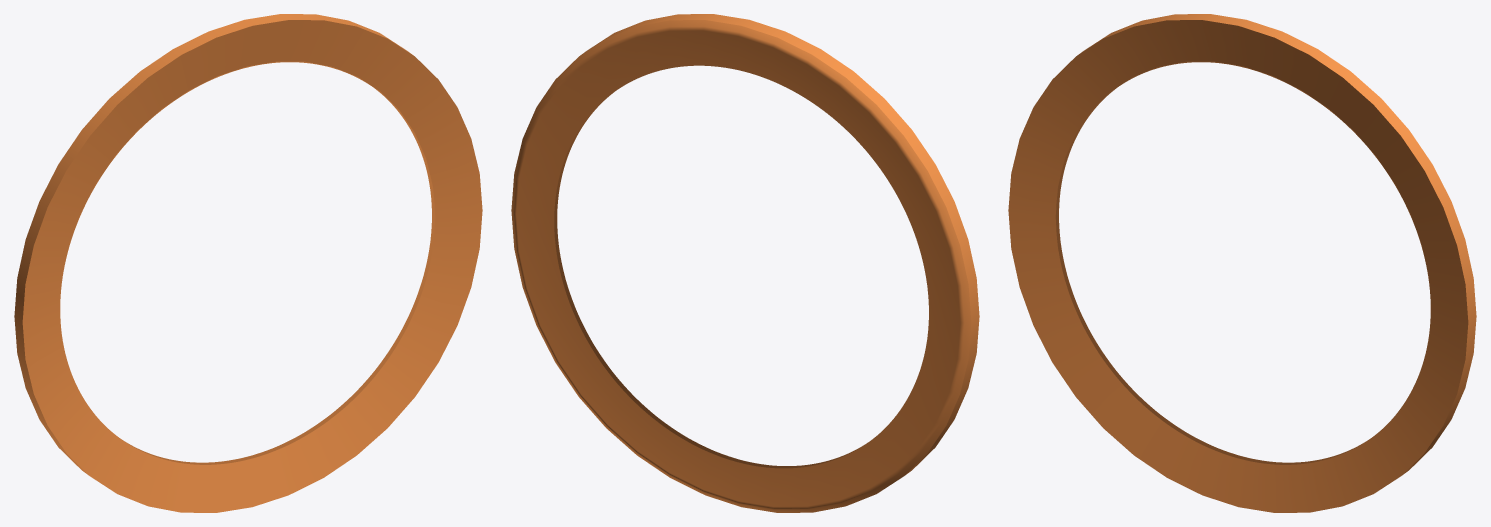
Rendered from Basic-button.fbx.
3 views of the same model, side by side, from view 1: azimuth 30°, elevation 25°; view 2: azimuth 150°, elevation 25°; view 3: azimuth 330°, elevation 25° (orthographic).
Visible parts, largest first — view 1: pCylinder1; view 2: pCylinder1; view 3: pCylinder1.
Part boxes in pixels (x1,y1,x2,y2): pCylinder1: [14, 14, 482, 512]; pCylinder1: [511, 14, 979, 512]; pCylinder1: [1008, 14, 1476, 512].
Size of the model in its own units: 0.02 by 0.02 by 0.000844.
1 material, 1 textured.
